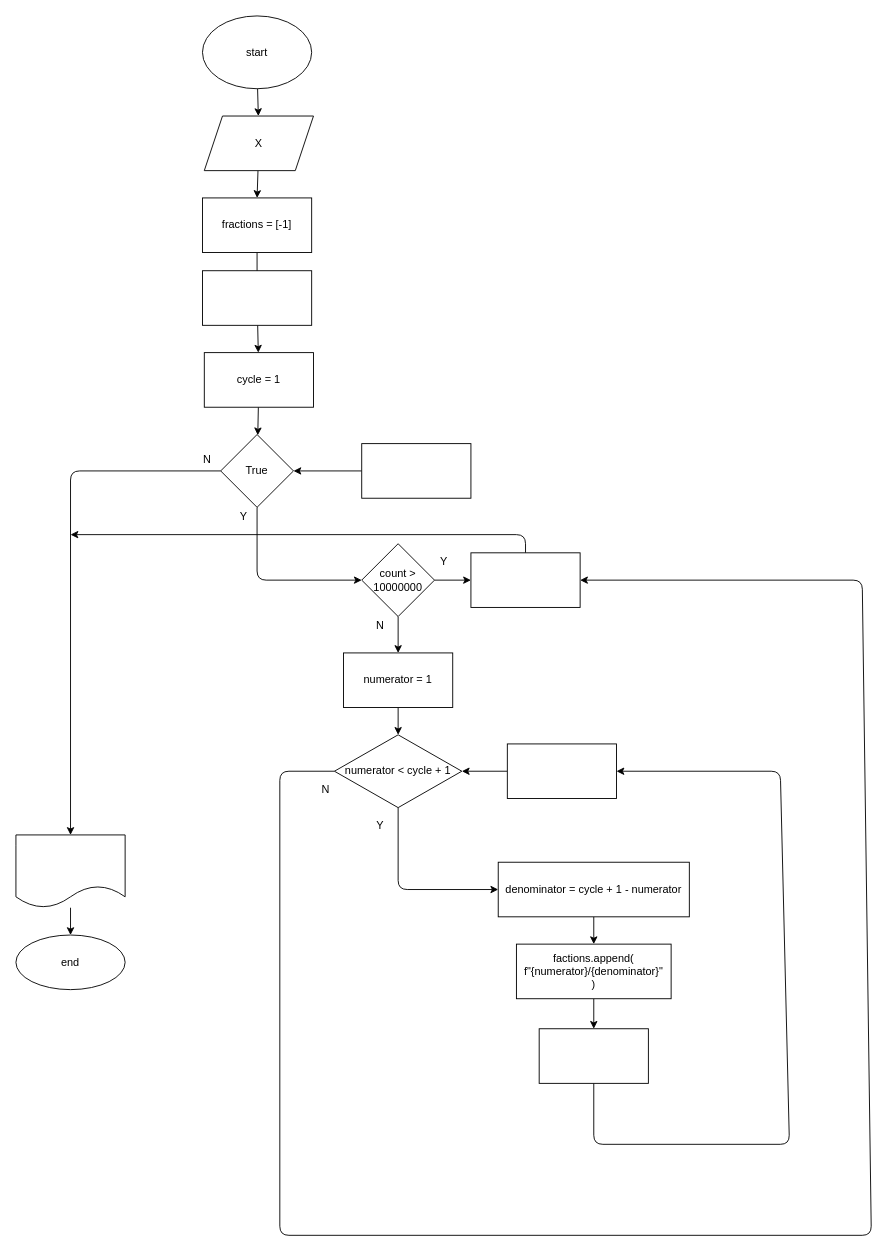
The diagram is 895 pixels wide and 1259 high, and some of its shapes have lost their labels. Each missing label, with the centre of its shape:
"break" belongs at point (525, 579).
"count += 1" belongs at point (593, 1055).
"count = 1" belongs at point (257, 297).
"cycle += 1" belongs at point (416, 470).
"fractions[X]" belongs at point (70, 871).
"numerator += 1" belongs at point (561, 771).
